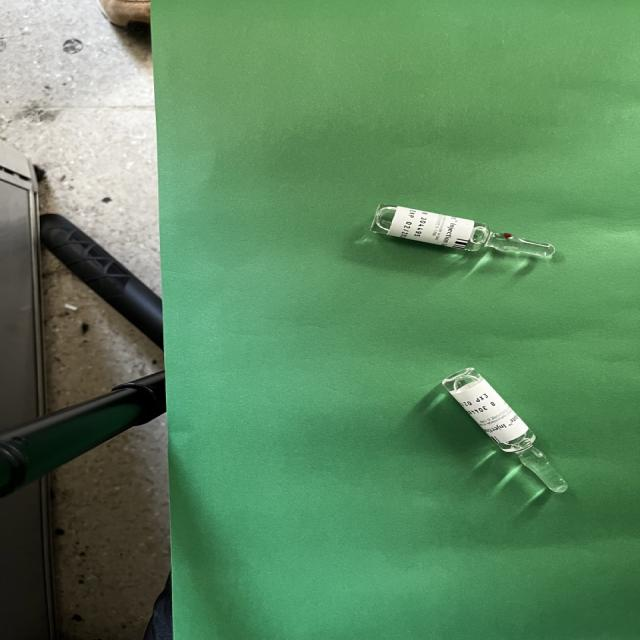Ampoules: (442, 368, 567, 493), (370, 206, 555, 259)
